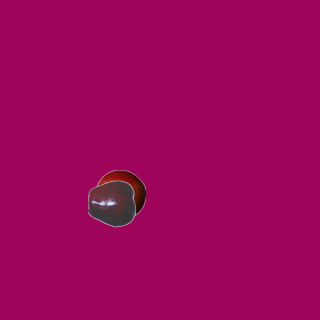Apple Braeburn: (95, 169, 145, 219)
Apple Red Delicious: (87, 178, 137, 228)
